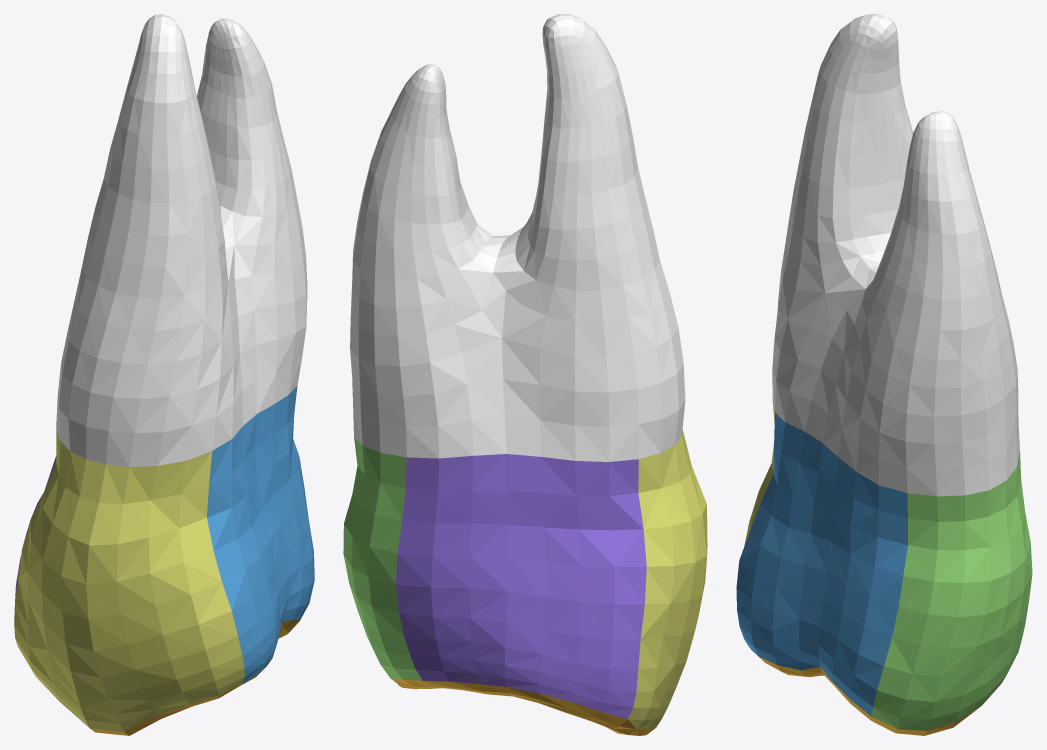
The model's file is tooth_14_annotated.glb.
3 renders of one model, left to right at view 1: azimuth 30°, elevation 25°; view 2: azimuth 150°, elevation 25°; view 3: azimuth 270°, elevation 25°, orthographic. The views are drawn at different scales.
Parts seen in each view (by area): view 1: FDI_14; view 2: FDI_14; view 3: FDI_14.
Part boxes in pixels (box(x1,y1,x2,y2)): FDI_14: box(14, 14, 314, 735); FDI_14: box(343, 14, 707, 735); FDI_14: box(736, 14, 1032, 735).
Size of the model in its own units: 0.00894 by 0.0203 by 0.00788.
